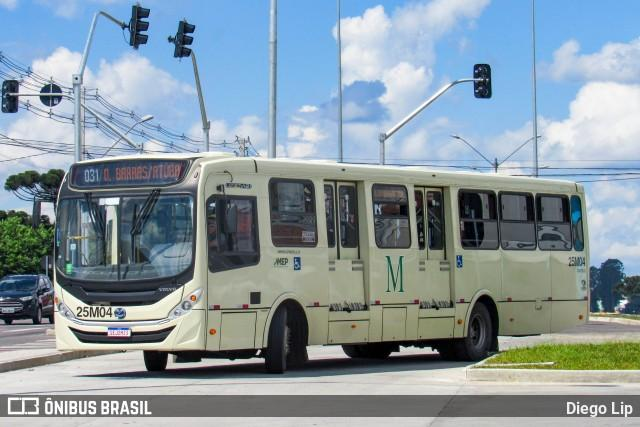BARRAS ATUBA: (112, 162, 188, 185)
